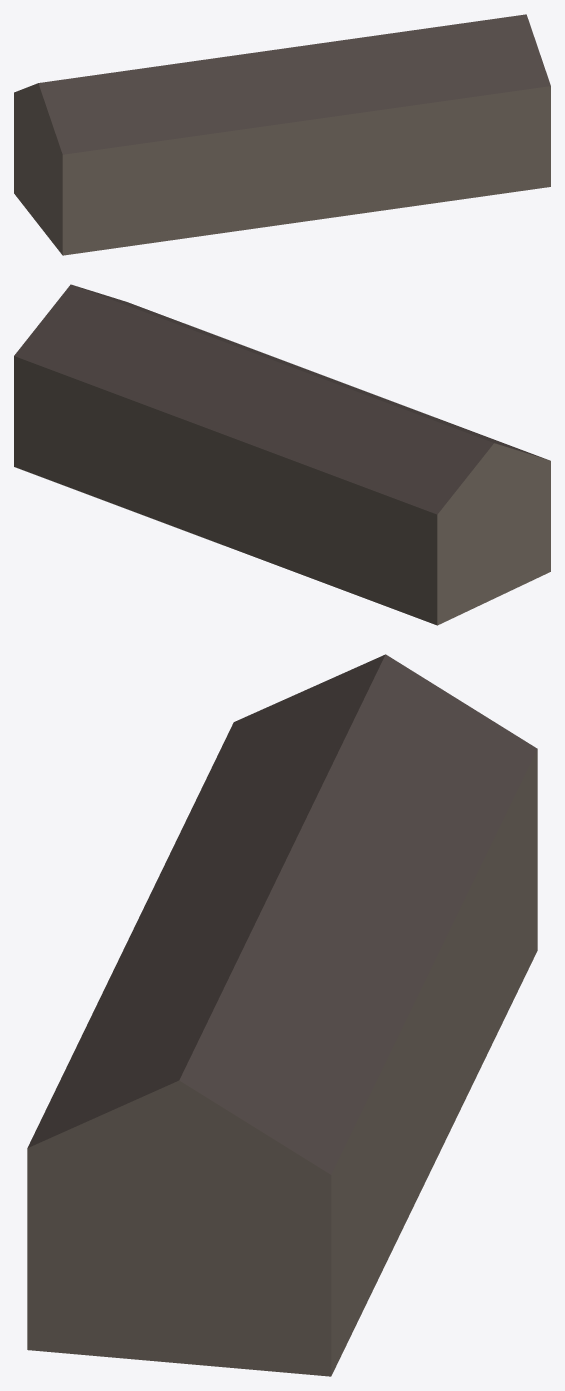
The picture shows the model from 3 angles, top to bottom: view 1: azimuth 30°, elevation 25°; view 2: azimuth 150°, elevation 25°; view 3: azimuth 270°, elevation 25°; orthographic projection. The views are drawn at different scales.
Visible parts, largest first — view 1: HP-w859488877; view 2: HP-w859488877; view 3: HP-w859488877.
Part boxes in pixels (x1,y1,x2,y2): HP-w859488877: (14,14,550,255); HP-w859488877: (14,284,550,625); HP-w859488877: (27,654,537,1376).
Bounding box in the file's own units: 28.88 × 8.42 × 13.76.
